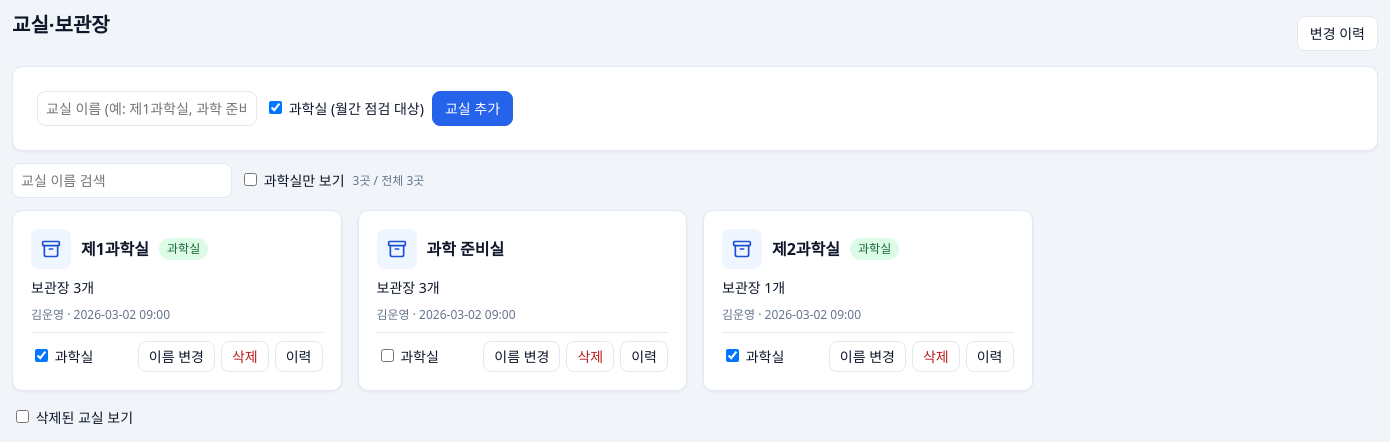
RoomsPage › filters by name and by science-lab only
Expected: the link "제1과학실" is shown, top-left (81, 237), bottom-right (149, 261)
Click the checkbox labelled "과학실만 보기".
click(250, 180)  # box top-left (244, 173), bottom-right (257, 186)
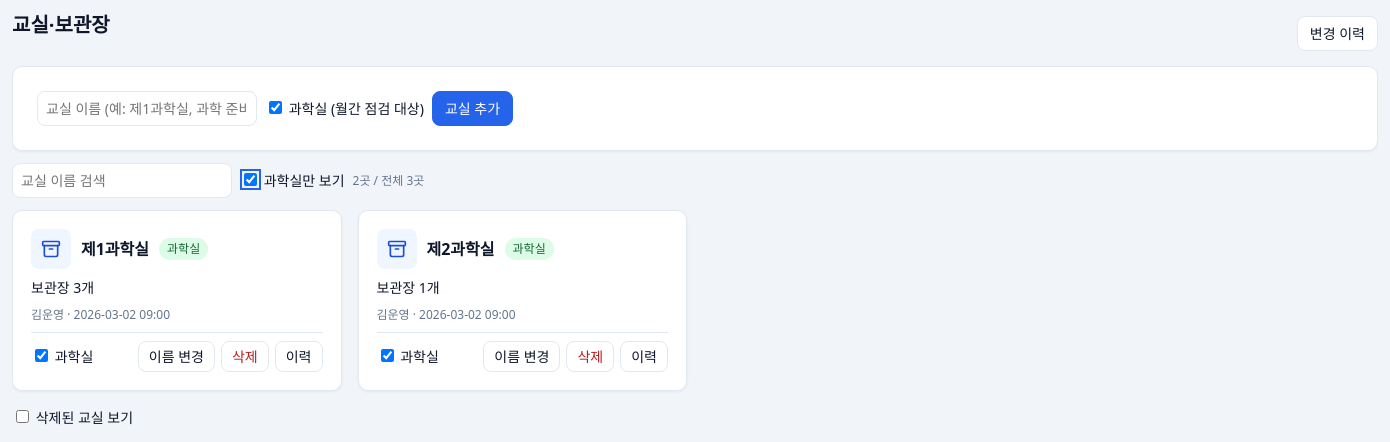
Expected: the link "제2과학실" is shown, top-left (426, 237), bottom-right (494, 261)
Type "제1" into the field labelled "교실 이름 검색".
click(122, 180); type("제1")  # box top-left (12, 163), bottom-right (232, 198)
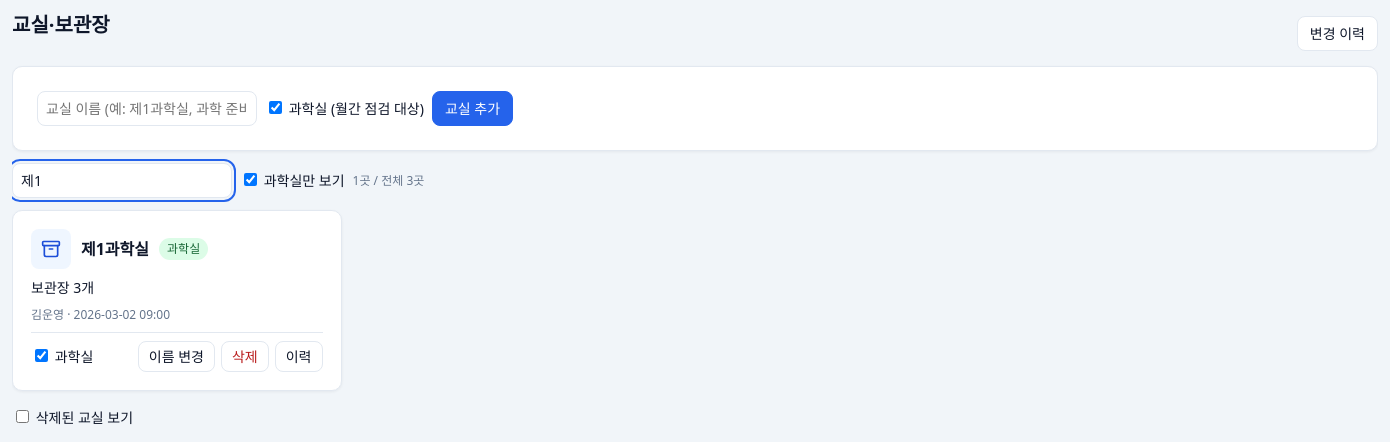
Expected: the link "제1과학실" is shown, top-left (81, 237), bottom-right (149, 261)
Expected: the link "제2과학실" is gone
